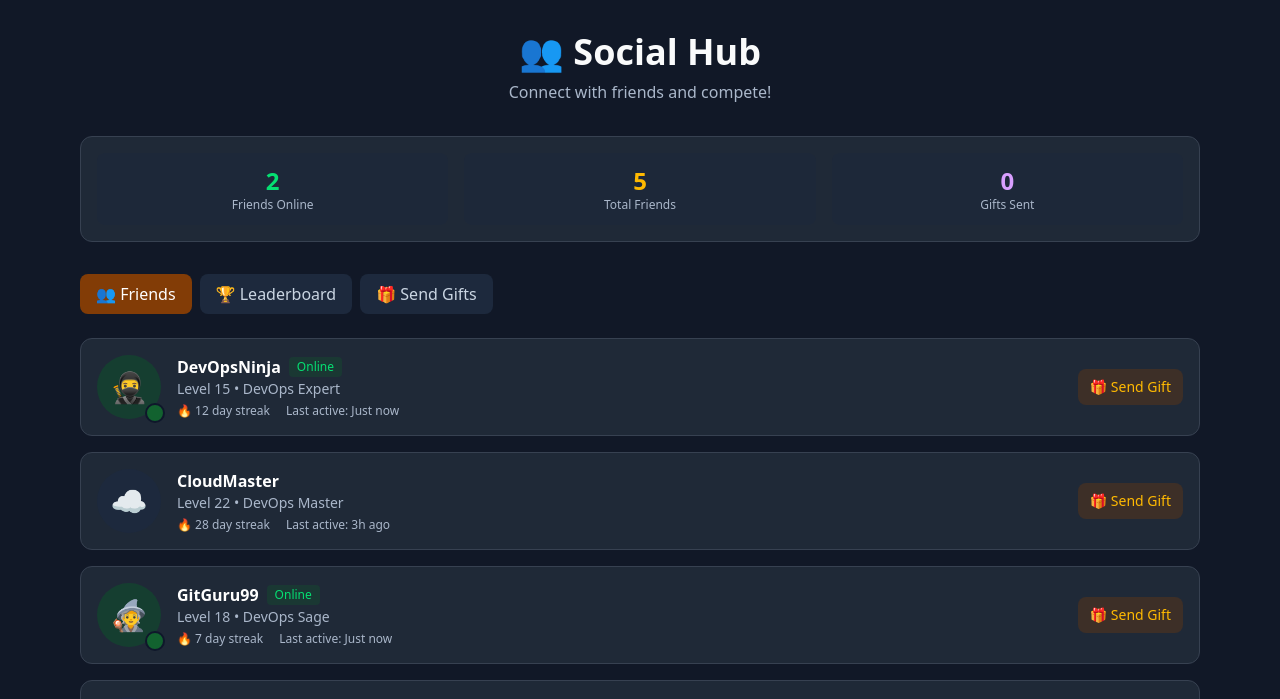
SocialPage › requires picking a friend before gifts become available
Step 1. Click the button "🎁 Send Gifts" → x=426, y=294, box [360,274,493,314]
(page scrolled)
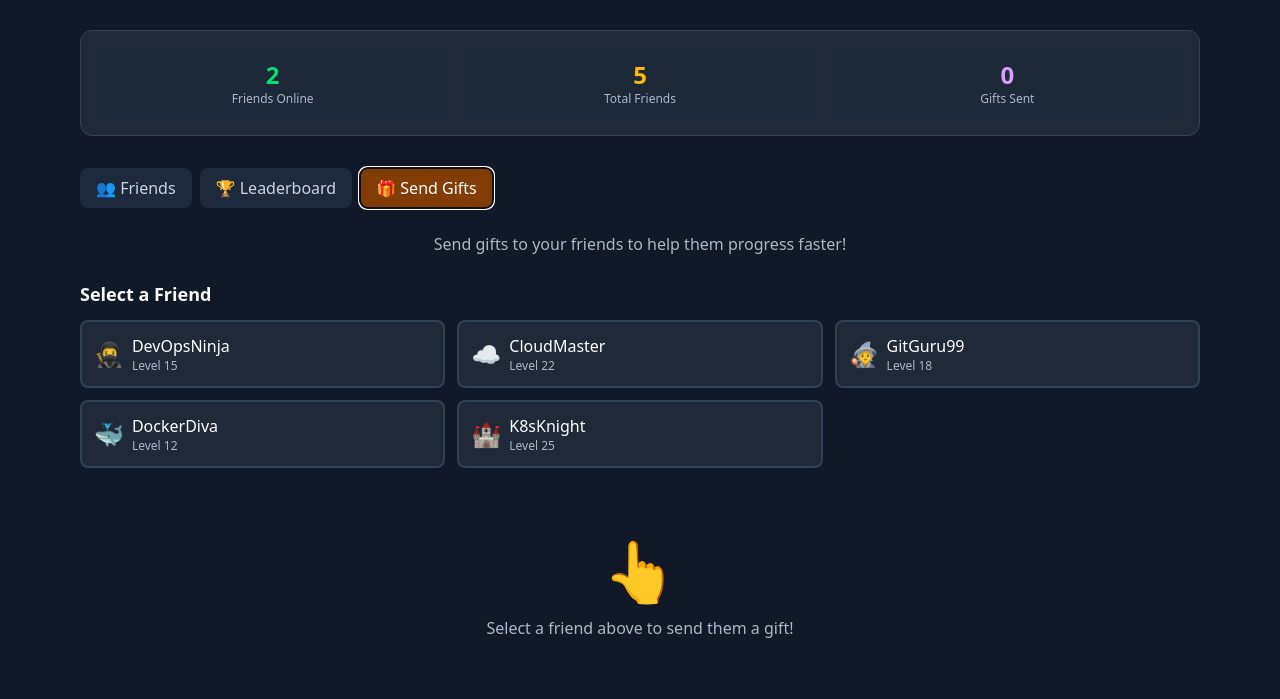
Check: the heading "Select a Friend" is shown, box [80,282,211,306]
Check: the text "Select a friend above to send them a gift!" is shown, box [486,617,794,639]
